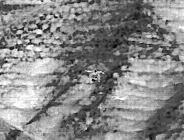Target: (84, 68, 104, 83)
